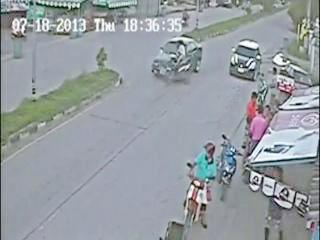Car: (153, 37, 202, 77), (230, 39, 261, 78)
Major Accident: (153, 36, 203, 83)
Motor: (181, 143, 216, 229), (218, 135, 239, 197), (164, 44, 193, 82)
